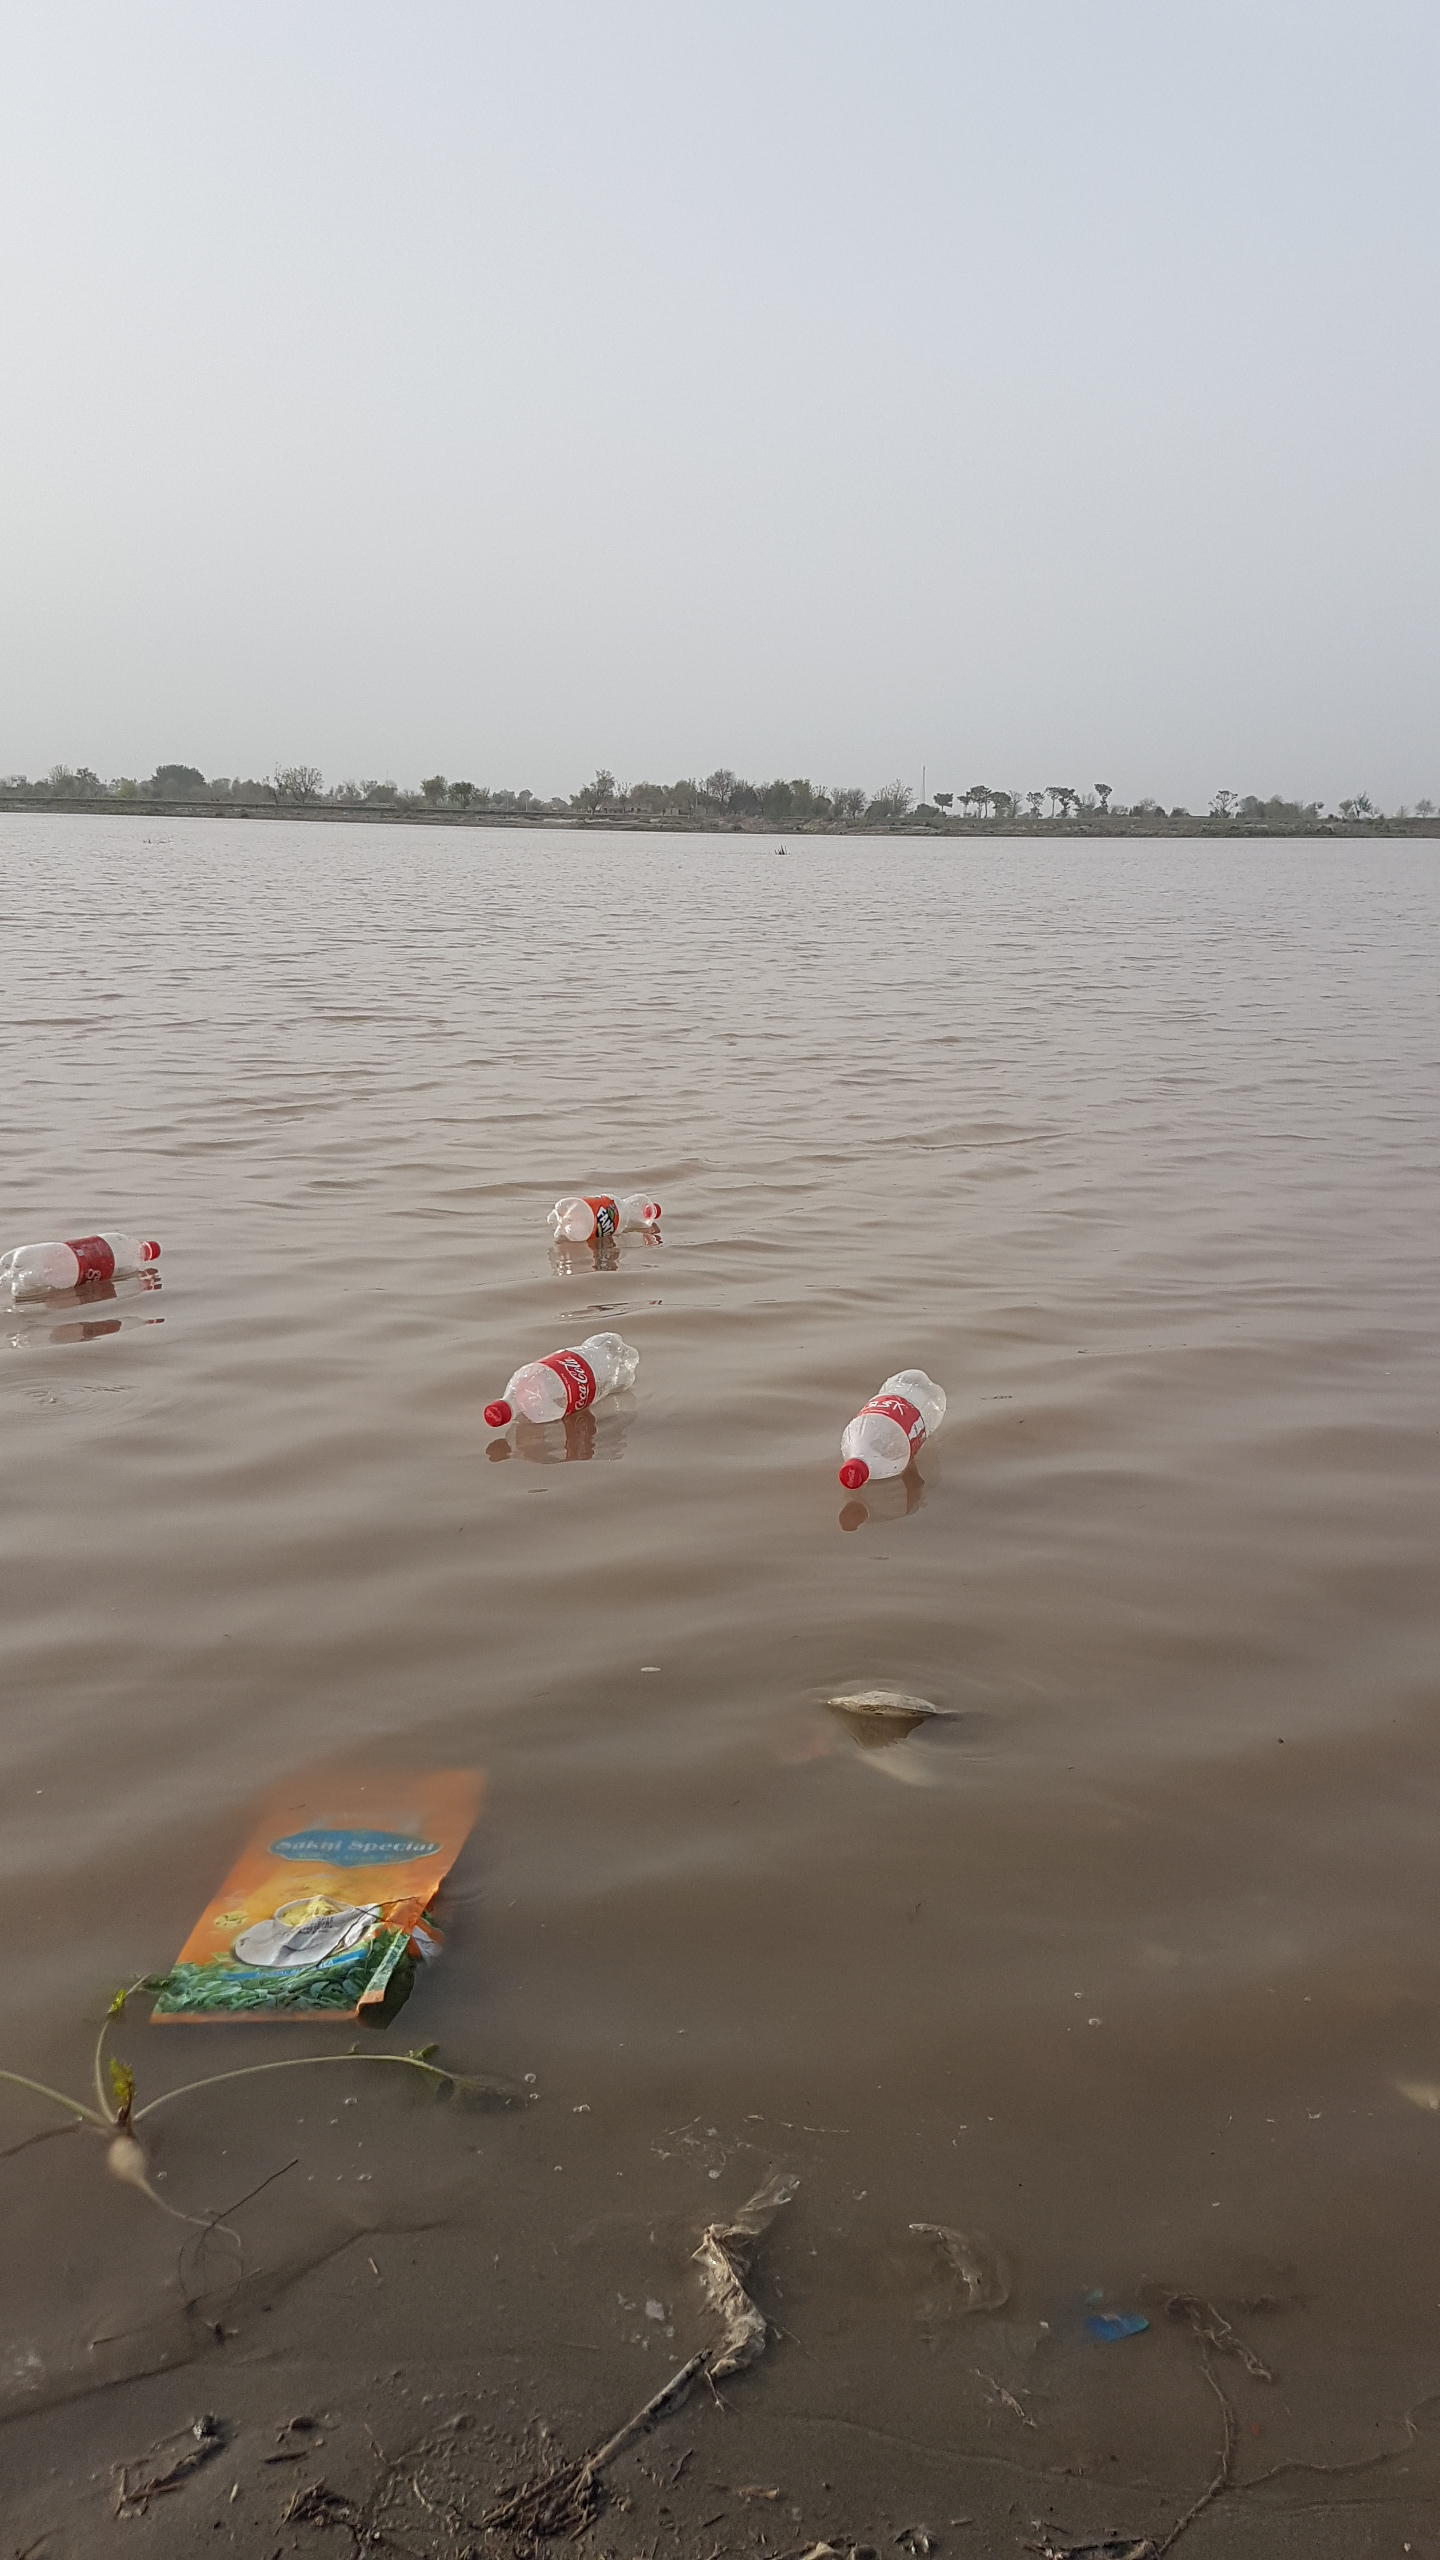Plastic Bottle: (484, 1333, 640, 1424), (839, 1368, 948, 1487), (2, 1231, 162, 1298), (547, 1194, 663, 1241)
